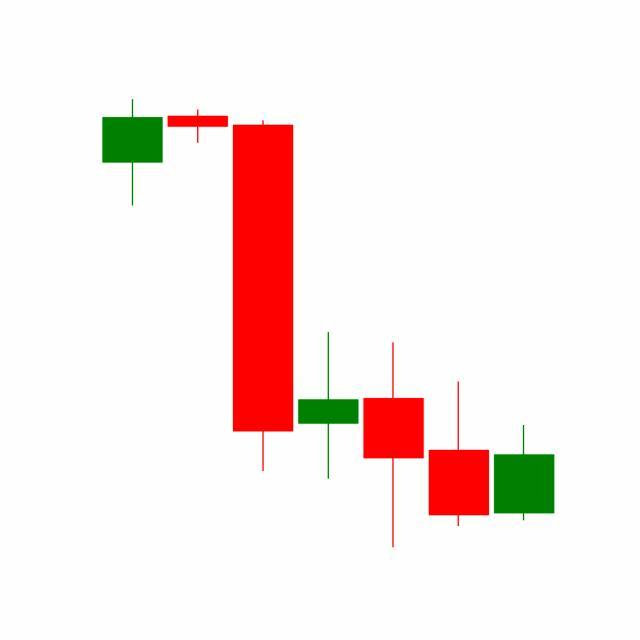Three Outside Up-Down: (295, 329, 492, 548)
